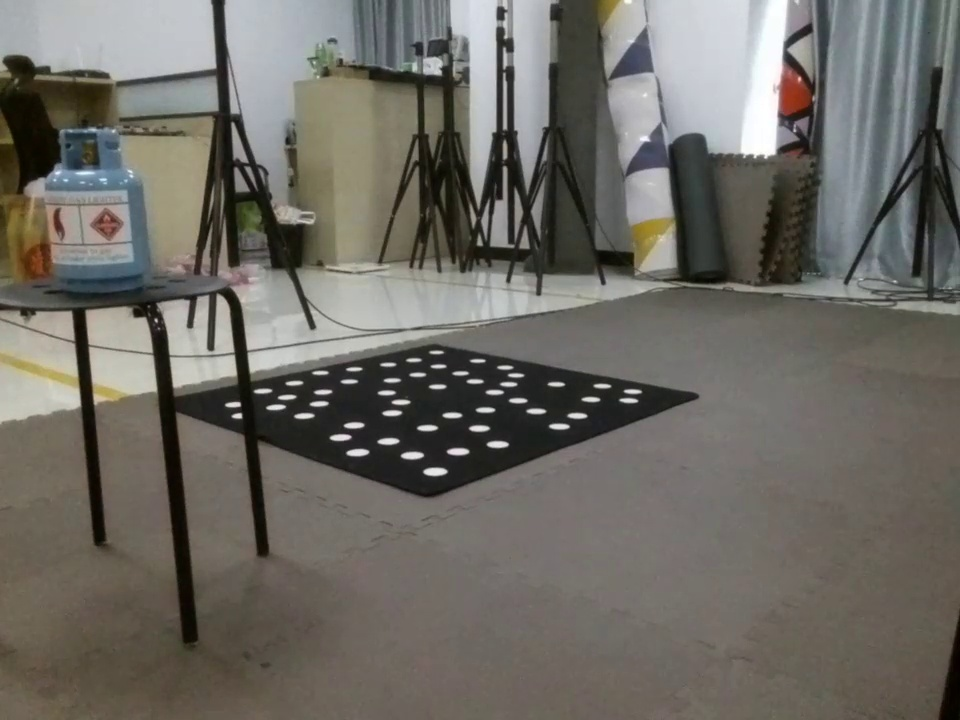gas tank: (41, 129, 151, 297)
